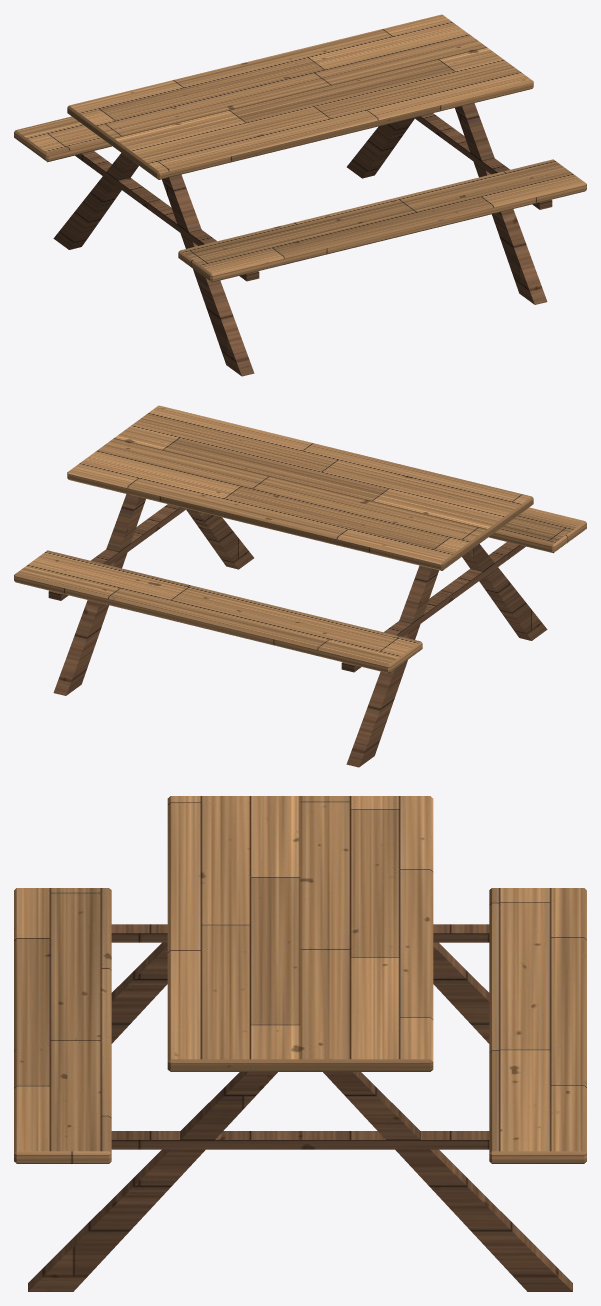
File: picnic.glb
3 views of the same model, one above another, from view 1: azimuth 30°, elevation 25°; view 2: azimuth 150°, elevation 25°; view 3: azimuth 270°, elevation 25° (orthographic). The views are drawn at different scales.
Visible parts, largest first — view 1: picnic_wood, picnic_dkwood; view 2: picnic_wood, picnic_dkwood; view 3: picnic_wood, picnic_dkwood.
Boxes of the visible parts, x1,y1,x2,y2 form: picnic_wood: [14, 14, 586, 282]; picnic_dkwood: [53, 103, 552, 376]; picnic_wood: [14, 405, 586, 673]; picnic_dkwood: [48, 494, 547, 767]; picnic_wood: [14, 796, 586, 1163]; picnic_dkwood: [28, 924, 572, 1291].
Size of the model in its own units: 1.8 by 0.81 by 1.64.
Materials: 2 (2 with a texture image).
